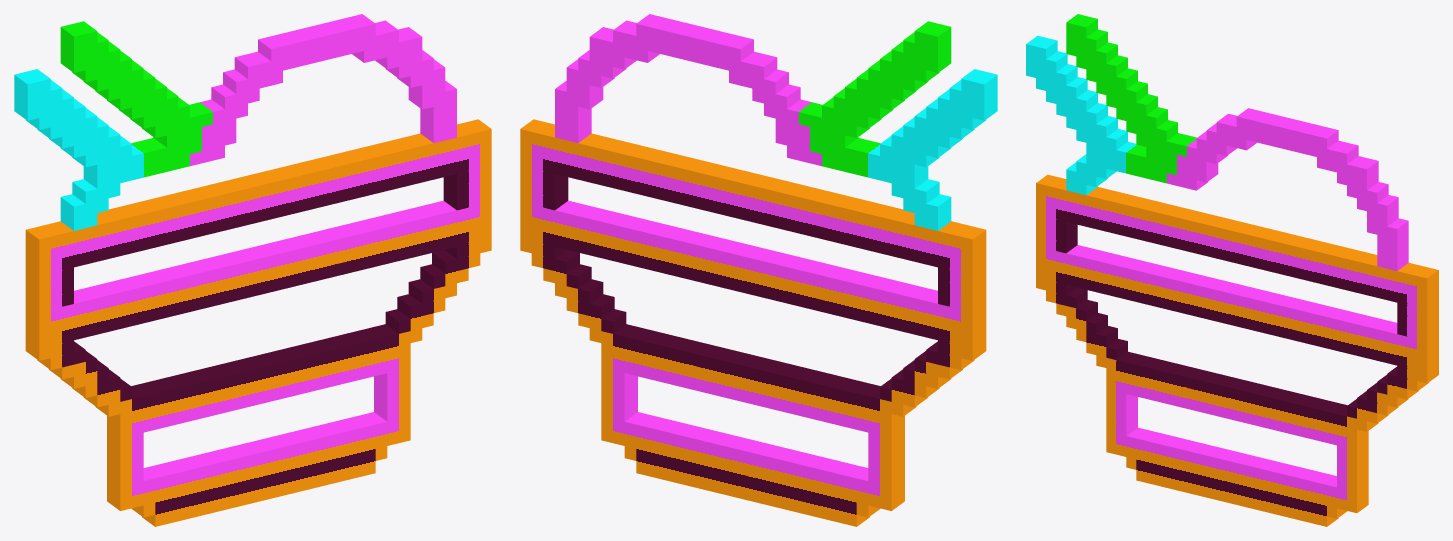
File: neon_sign_board_food.glb
3 views of the same model, side by side, from view 1: azimuth 30°, elevation 25°; view 2: azimuth 150°, elevation 25°; view 3: azimuth 330°, elevation 25° (orthographic). The views are drawn at different scales.
Parts seen in each view (by area): view 1: Object_4; view 2: Object_4; view 3: Object_4.
Boxes of the visible parts, x1,y1,x2,y2 form: Object_4: [14, 14, 491, 526]; Object_4: [520, 14, 997, 526]; Object_4: [1026, 14, 1438, 526].
Bounding box in the file's own units: 40 × 42 × 2.
1 material, 1 textured.
